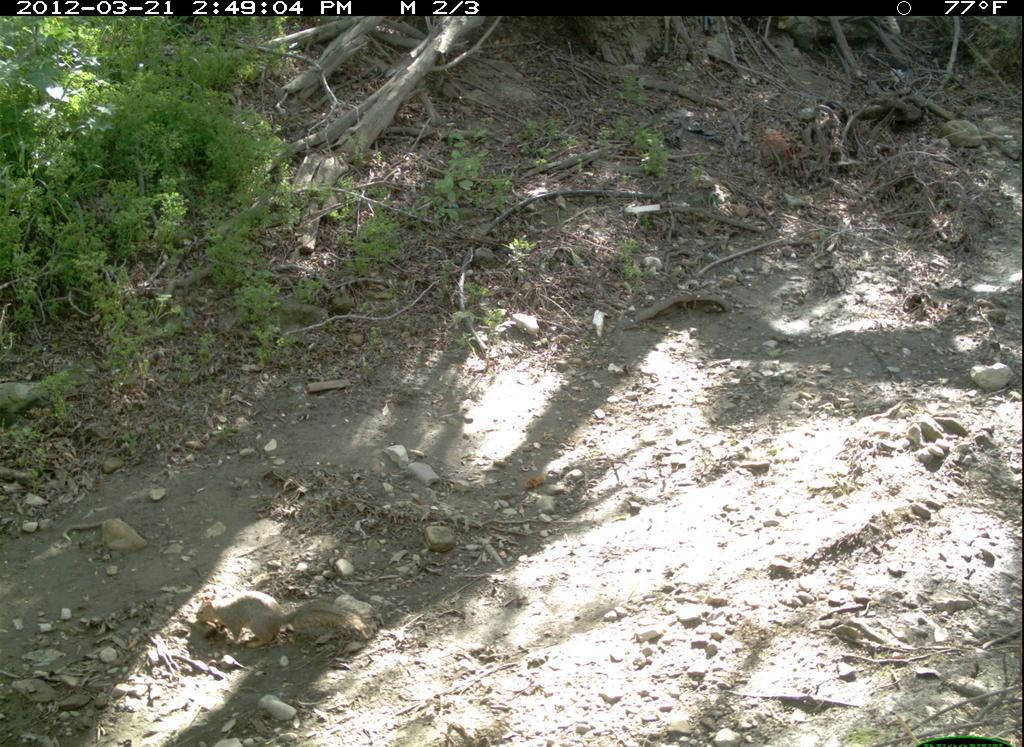squirrel: (190, 587, 376, 664)
